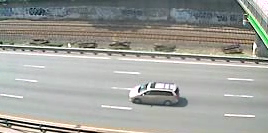car: (126, 79, 183, 108)
